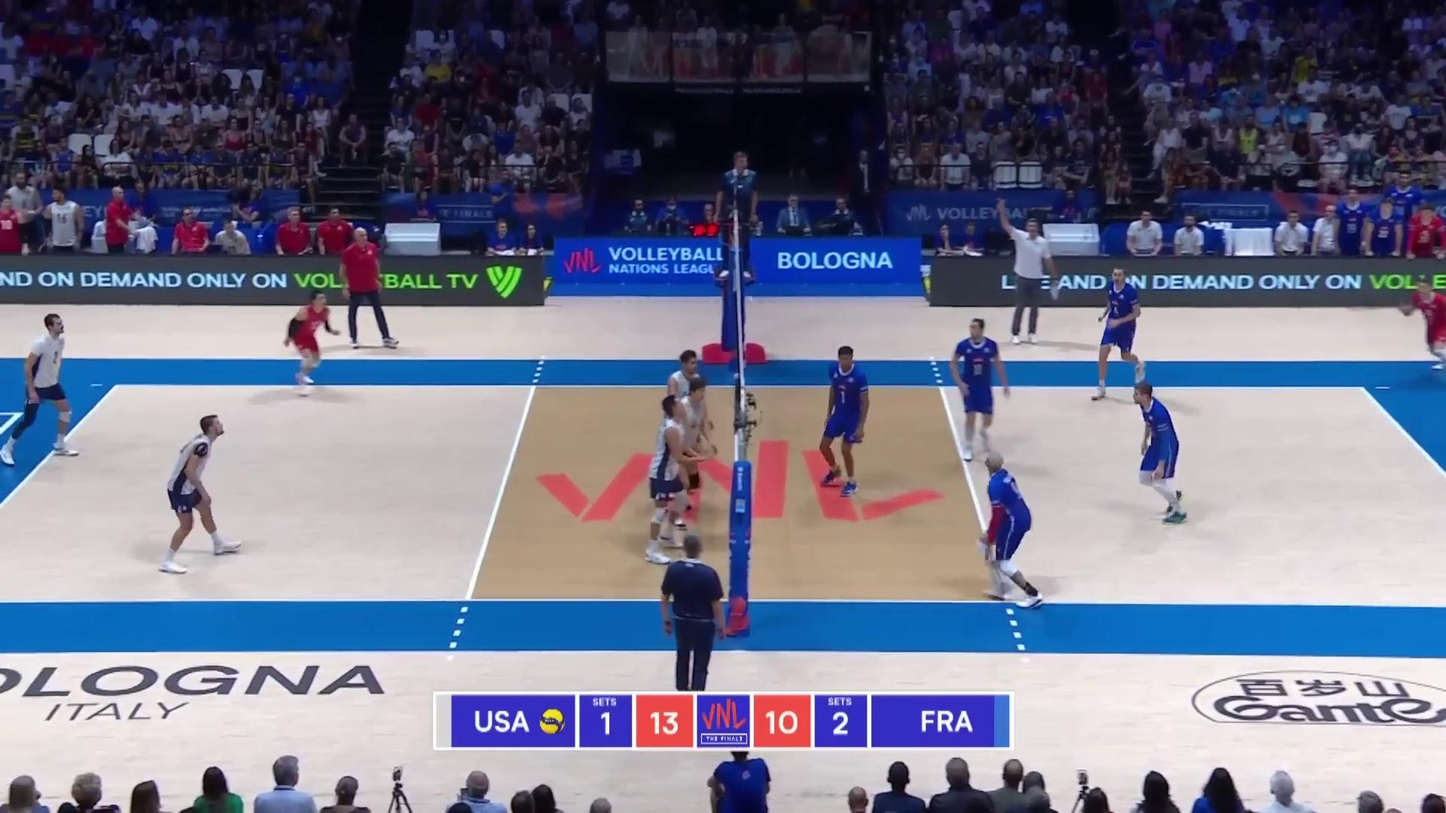player: (160, 414, 240, 567), (0, 315, 78, 464), (971, 452, 1040, 607), (644, 400, 702, 559), (658, 350, 710, 517), (951, 319, 1008, 461), (1131, 381, 1186, 521), (817, 350, 868, 497), (1093, 271, 1146, 396), (668, 379, 711, 529), (289, 293, 337, 395), (1396, 281, 1446, 378)
refree: (651, 535, 726, 693), (715, 153, 758, 279)
